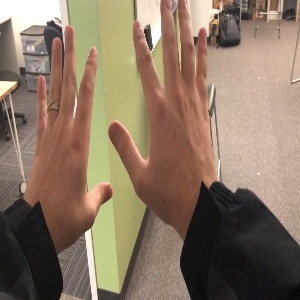hand: (110, 1, 217, 199), (23, 26, 112, 228)
